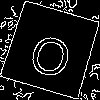O: (26, 24, 78, 81)
